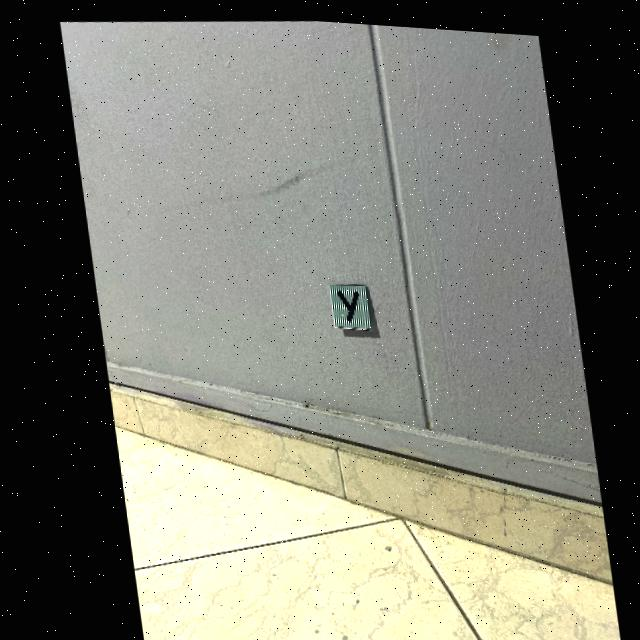Y: (333, 286, 354, 317)
